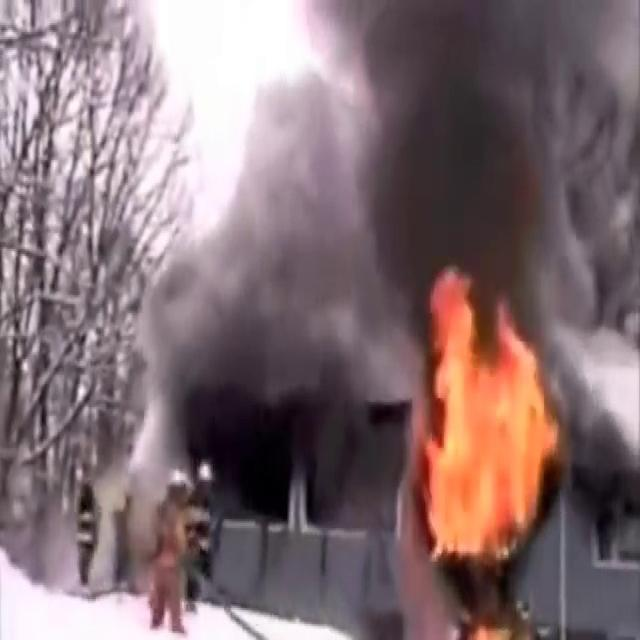Fire: (412, 264, 562, 602)
Smoke: (125, 19, 402, 558), (300, 0, 640, 331)
